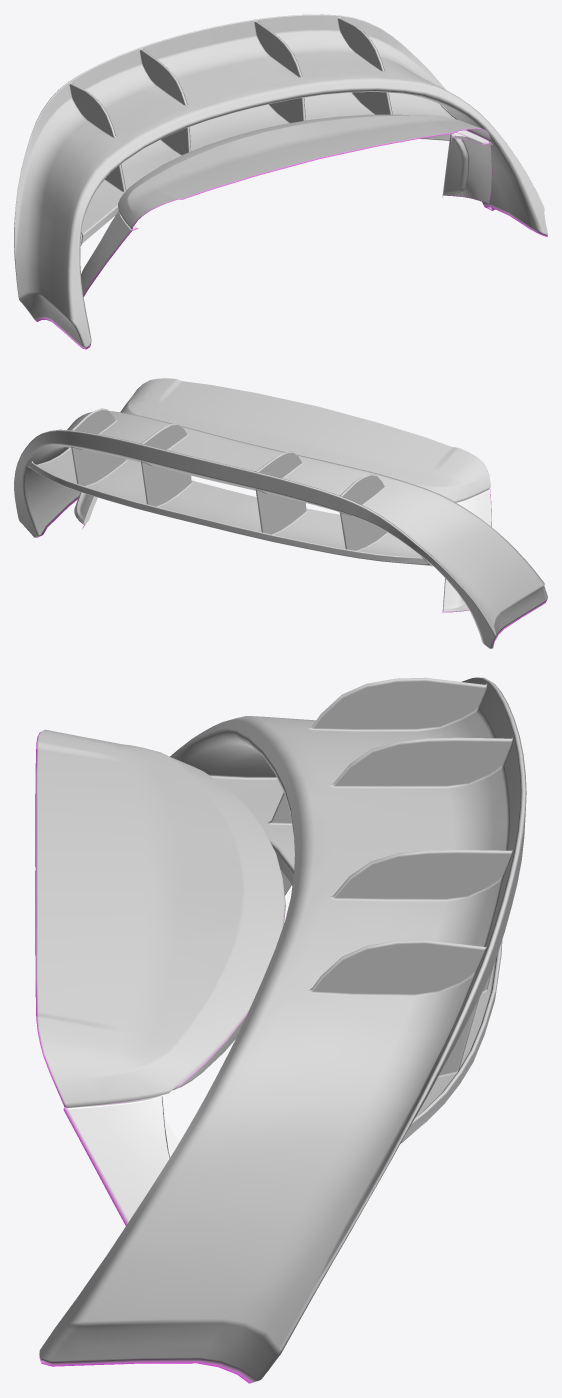
File: Car_Mini_CountrymanJCW_2017_Spoiler_SetC_AltB.fbx
The picture shows the model from 3 angles, top to bottom: view 1: azimuth 30°, elevation 25°; view 2: azimuth 150°, elevation 25°; view 3: azimuth 270°, elevation 25°; orthographic projection. The views are drawn at different scales.
Visible parts, largest first — view 1: Spoiler 6; view 2: Spoiler 6; view 3: Spoiler 6.
Boxes of the visible parts, box(x1,y1,x2,y2) form: Spoiler 6: box(14, 14, 547, 349); Spoiler 6: box(14, 378, 547, 648); Spoiler 6: box(35, 677, 526, 1383).
Bounding box in the file's own units: 1.53 × 0.5678 × 0.6822.
